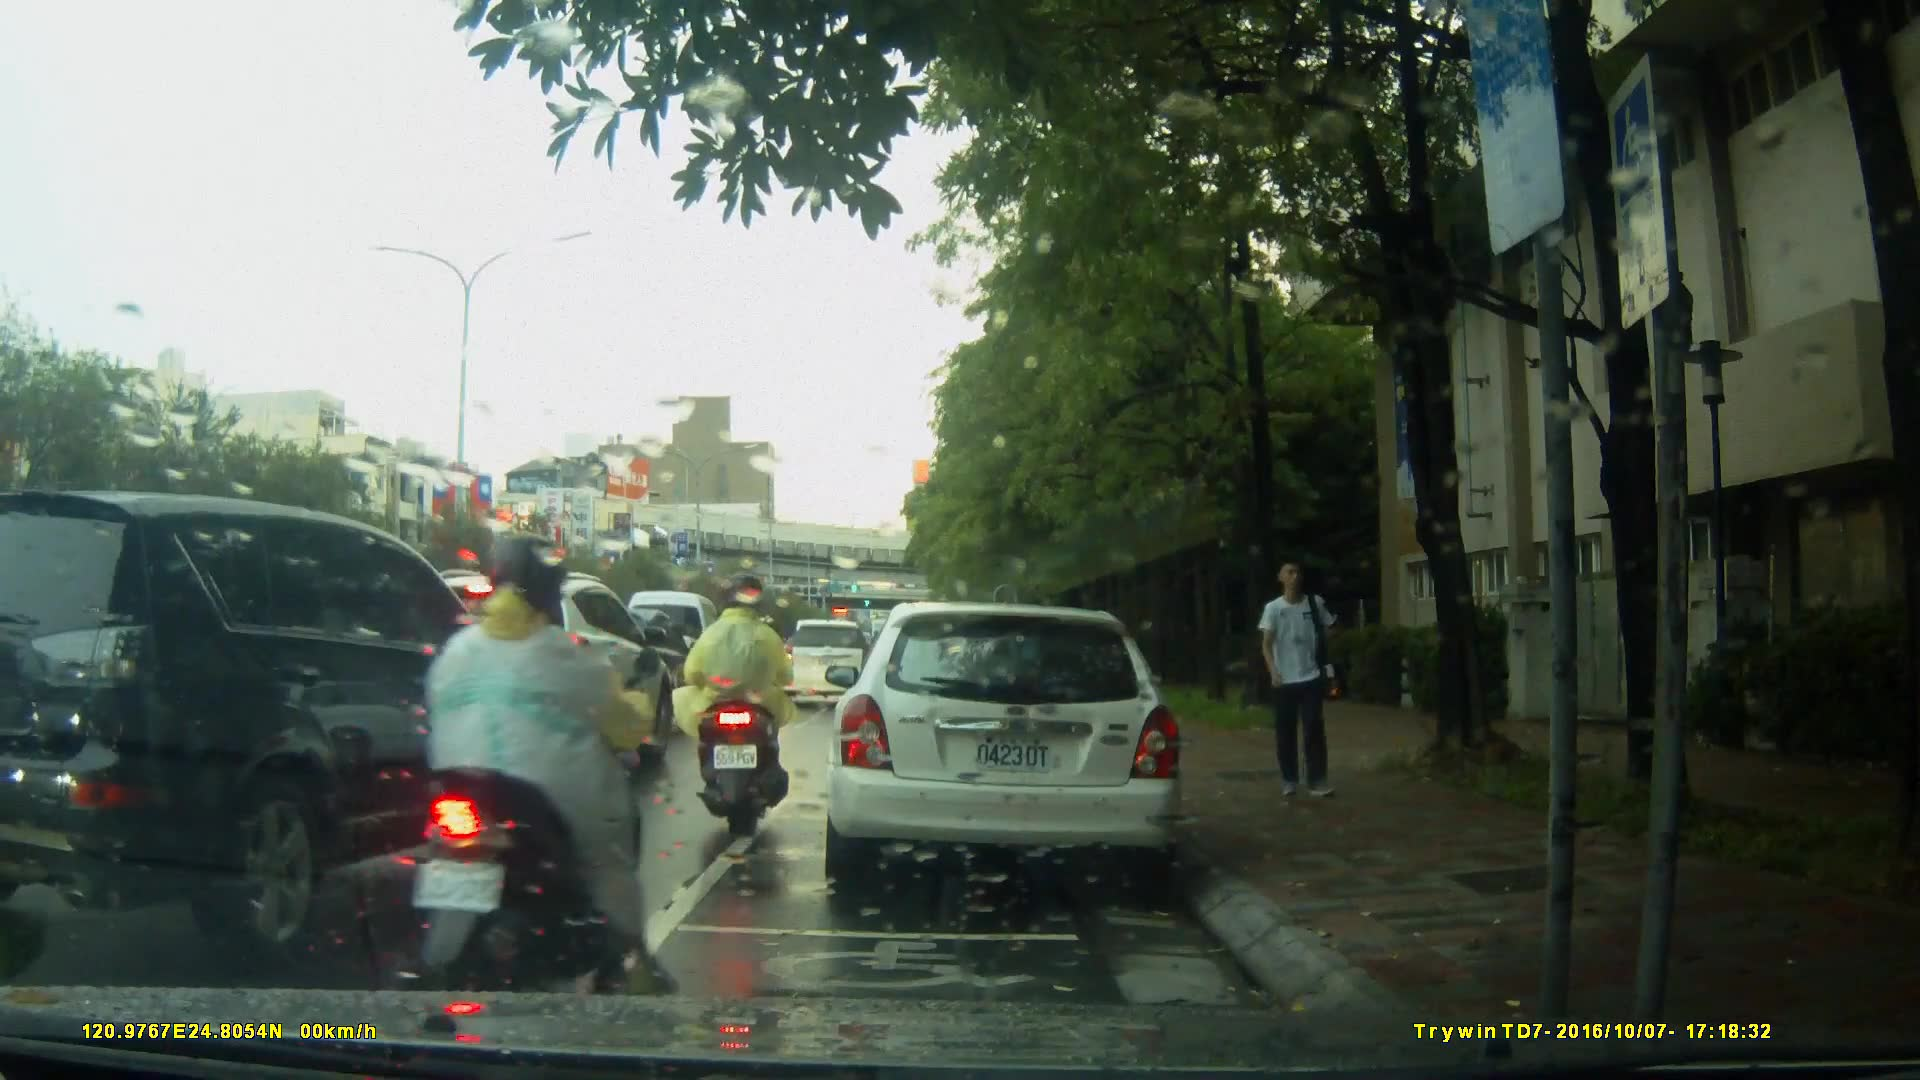pedestrian: (1240, 555, 1343, 810)
rider: (416, 531, 679, 1008), (675, 579, 804, 838)
vehicle: (1, 486, 582, 961), (820, 602, 1188, 898), (372, 568, 675, 780), (619, 589, 736, 715), (770, 617, 878, 710)
